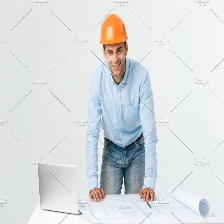helmet: (100, 14, 128, 45)
no-vest: (97, 62, 143, 172)
person: (85, 14, 159, 203)
